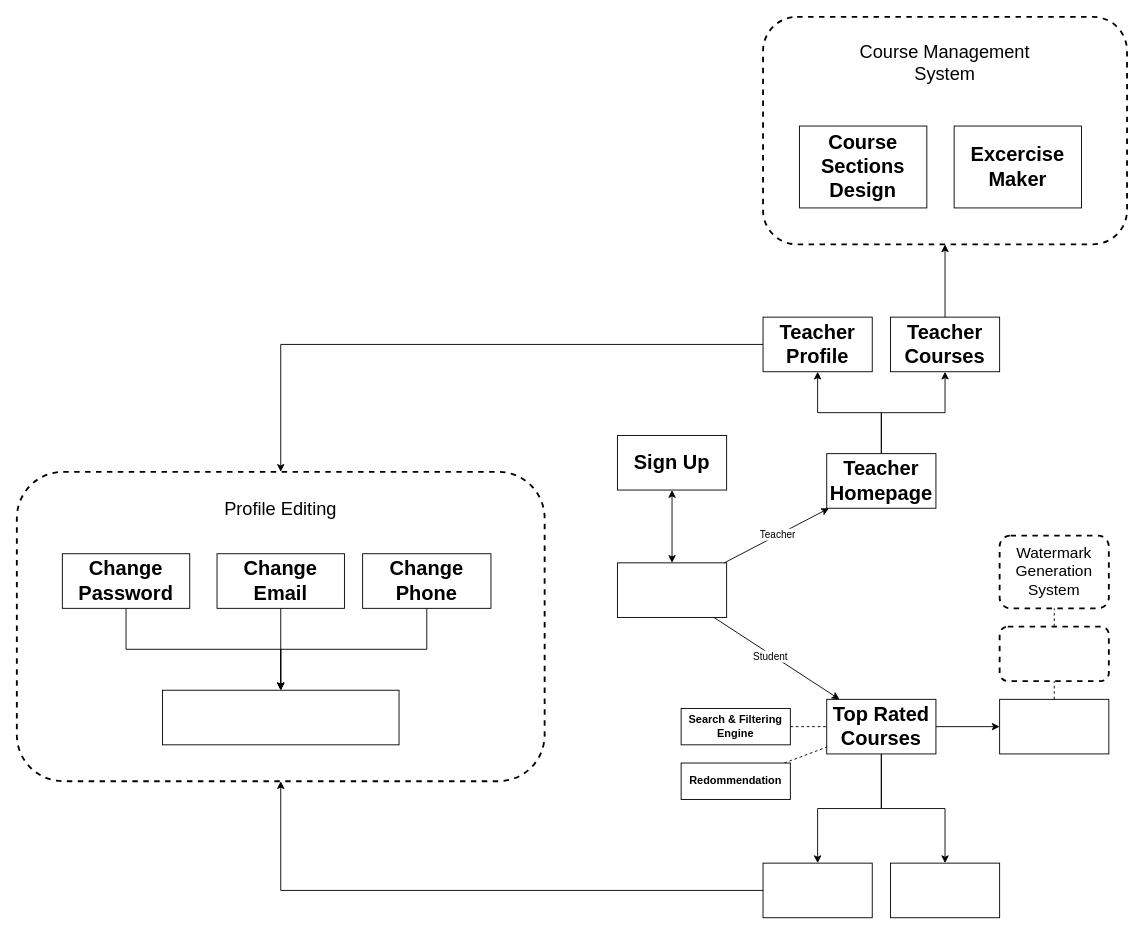
Some shapes in this 1143 by 934 pixel diagram are drawn without their labels. The centre of each missing label's shape, as x and y in pixels:
"Confirmation Page" belongs at point 280,717.
"Course Page" belongs at point 1054,726.
"Enrolled Courses" belongs at point 945,890.
"Log in" belongs at point 672,589.
"Student Profile" belongs at point 817,890.
"Video Player" belongs at point 1053,653.
